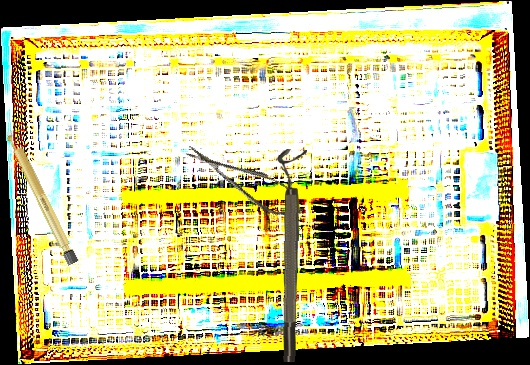Fixation Ring: (270, 148, 307, 363)
Micro Scissor: (181, 132, 309, 228)
Scalpel Handle: (3, 128, 80, 266)
